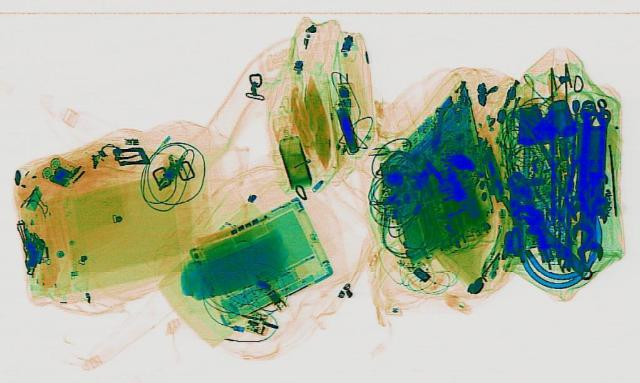Wrench: (574, 208, 606, 258), (568, 196, 596, 239)
